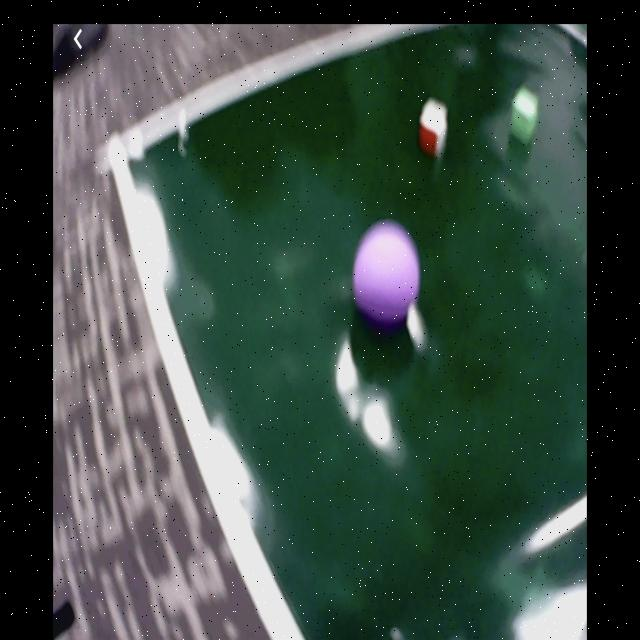ball: (355, 222, 419, 321)
